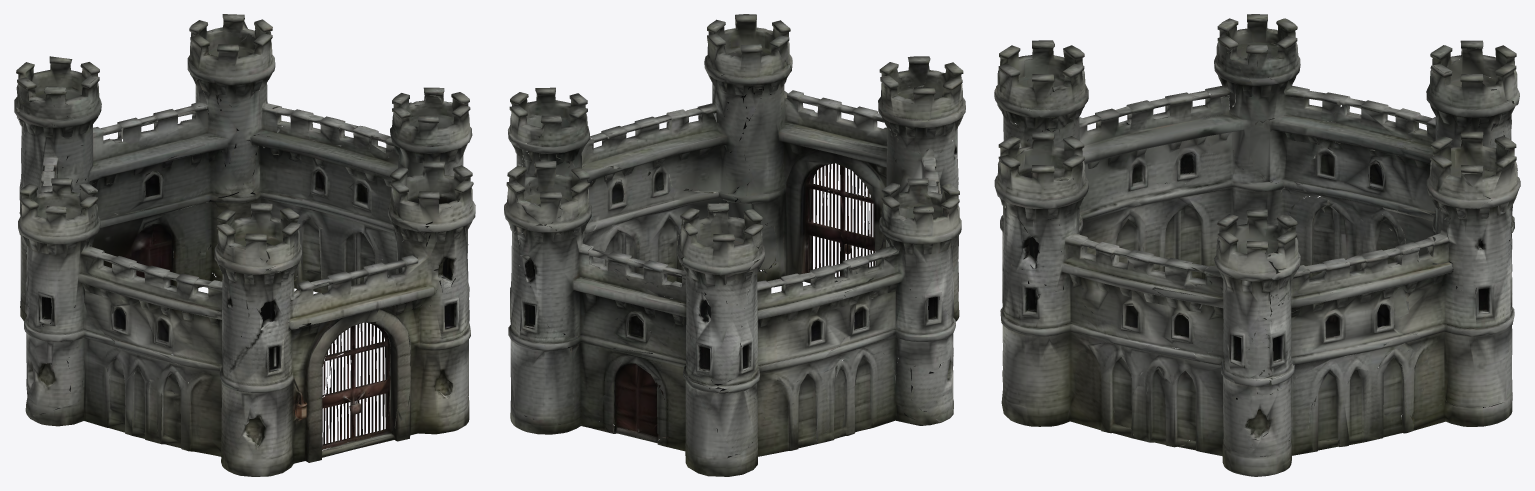
Rendered from Muspelheim_Surt_Tower.glb.
The picture shows the model from 3 angles, left to right: view 1: azimuth 30°, elevation 25°; view 2: azimuth 150°, elevation 25°; view 3: azimuth 270°, elevation 25°; orthographic projection. The views are drawn at different scales.
Visible parts, largest first — view 1: Object_13, Object_11, Object_16, Object_12, Object_9, Object_5, Object_7, Object_8, Object_10, Object_4, Object_14, Object_6 (+1 smaller); view 2: Object_8, Object_5, Object_10, Object_15, Object_7, Object_4, Object_6, Object_9, Object_12, Object_14, Object_16, Object_11 (+2 smaller); view 3: Object_16, Object_10, Object_14, Object_15, Object_4, Object_6, Object_7, Object_9, Object_12, Object_8, Object_13, Object_17 (+2 smaller).
Part boxes in pixels (bbox=[...]): Object_13: bbox=[58, 25, 475, 451]; Object_11: bbox=[177, 113, 379, 476]; Object_16: bbox=[18, 87, 470, 435]; Object_12: bbox=[142, 161, 472, 468]; Object_9: bbox=[21, 14, 322, 432]; Object_5: bbox=[16, 72, 327, 387]; Object_7: bbox=[14, 21, 388, 449]; Object_8: bbox=[17, 77, 326, 336]; Object_10: bbox=[80, 78, 450, 411]; Object_4: bbox=[322, 95, 472, 449]; Object_14: bbox=[20, 35, 469, 443]; Object_6: bbox=[14, 19, 473, 448]; Object_8: bbox=[568, 62, 963, 454]; Object_5: bbox=[582, 119, 940, 409]; Object_10: bbox=[519, 87, 958, 440]; Object_15: bbox=[510, 87, 953, 431]; Object_7: bbox=[504, 188, 939, 452]; Object_4: bbox=[508, 87, 882, 269]; Object_6: bbox=[507, 14, 874, 476]; Object_9: bbox=[506, 56, 953, 458]; Object_12: bbox=[707, 19, 963, 273]; Object_14: bbox=[510, 92, 955, 434]; Object_16: bbox=[509, 99, 961, 320]; Object_11: bbox=[593, 74, 965, 321]; Object_16: bbox=[1000, 14, 1305, 456]; Object_10: bbox=[1016, 36, 1516, 320]; Object_14: bbox=[1155, 18, 1512, 433]; Object_15: bbox=[1044, 150, 1511, 442]; Object_4: bbox=[1078, 209, 1421, 428]; Object_6: bbox=[998, 56, 1514, 432]; Object_7: bbox=[1290, 45, 1520, 445]; Object_9: bbox=[994, 45, 1520, 384]; Object_12: bbox=[1003, 40, 1184, 310]; Object_8: bbox=[999, 40, 1514, 421]; Object_13: bbox=[994, 131, 1509, 397]; Object_17: bbox=[1157, 222, 1348, 476].
Size of the model in its own units: 1.03 by 0.5382 by 0.9857.
Materials: 1 (1 with a texture image).
